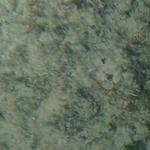dead: (1, 1, 144, 143)
